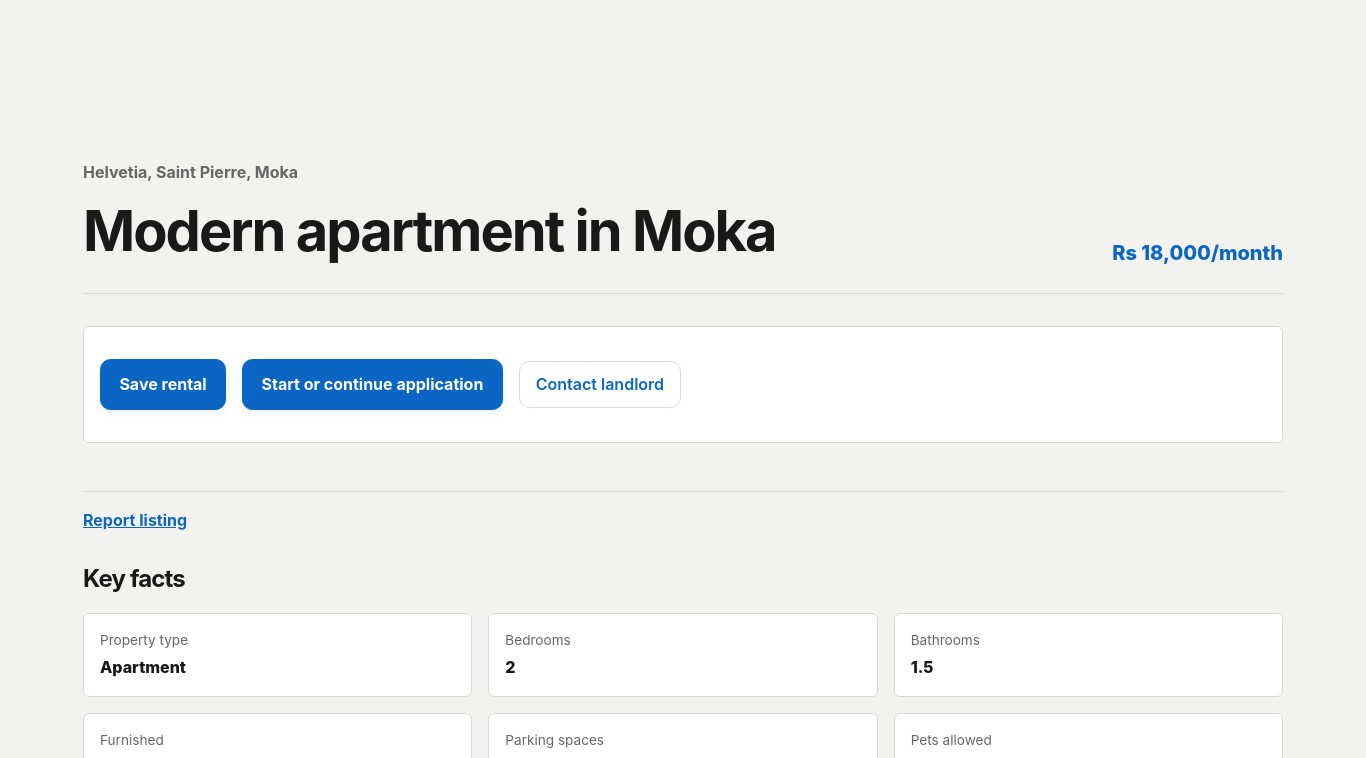
public listing detail saved control › shows a safe failure if the listing becomes unavailable before save
The image size is (1366, 758).
(page scrolled)
Click the button "Save rental" at (163, 384), box [100, 359, 226, 410]
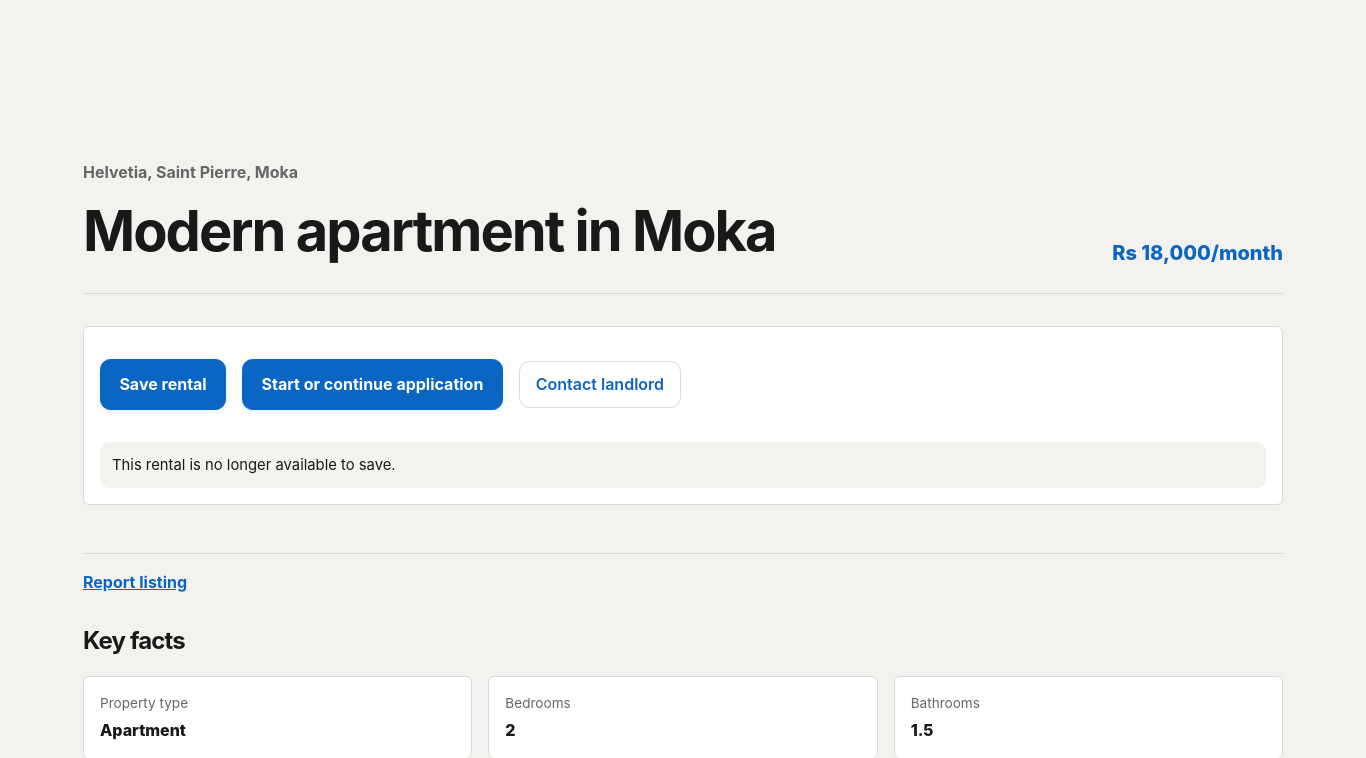
Now the text "This rental is no longer available to save." is shown, box [100, 442, 1266, 488]
